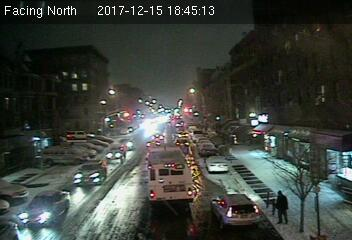bus: (147, 142, 195, 204)
car: (18, 187, 72, 225), (211, 192, 260, 228), (74, 161, 105, 185), (204, 155, 229, 173), (114, 137, 137, 151), (105, 146, 126, 161), (148, 133, 165, 141)
pedestrian: (272, 187, 292, 228)
